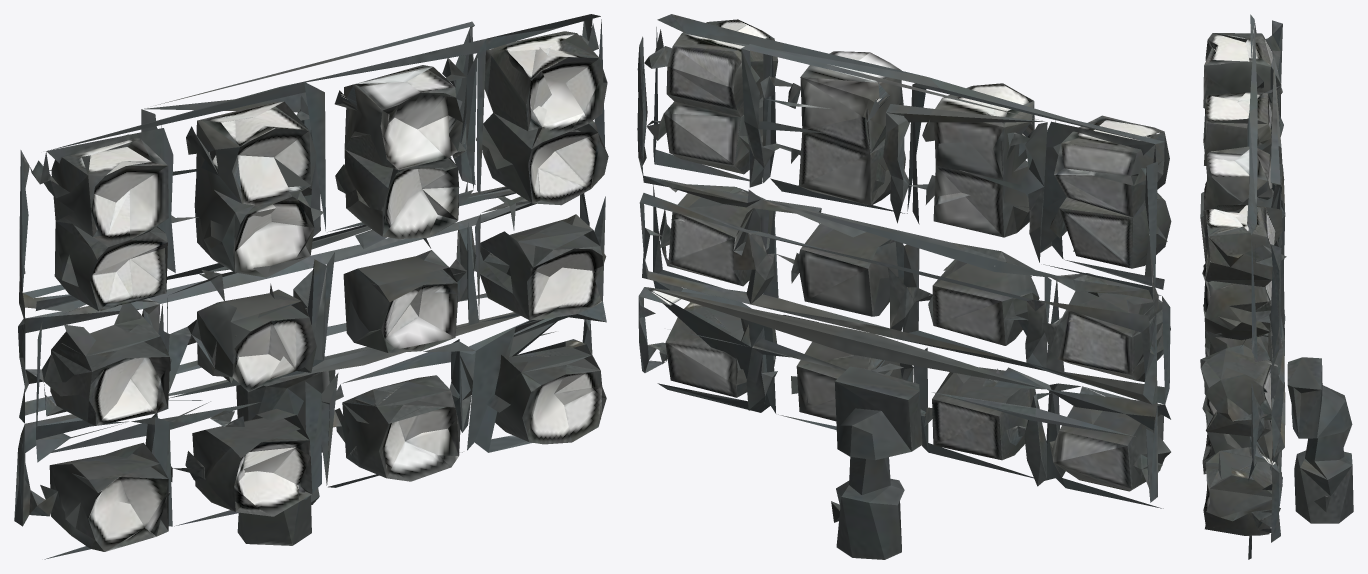
File: floodlight.glb
3 renders of one model, left to right at view 1: azimuth 30°, elevation 25°; view 2: azimuth 150°, elevation 25°; view 3: azimuth 270°, elevation 25°, orthographic. The views are drawn at different scales.
Size of the model in its own units: 1.9 by 1.56 by 0.5489.
Materials: 1 (1 with a texture image).
